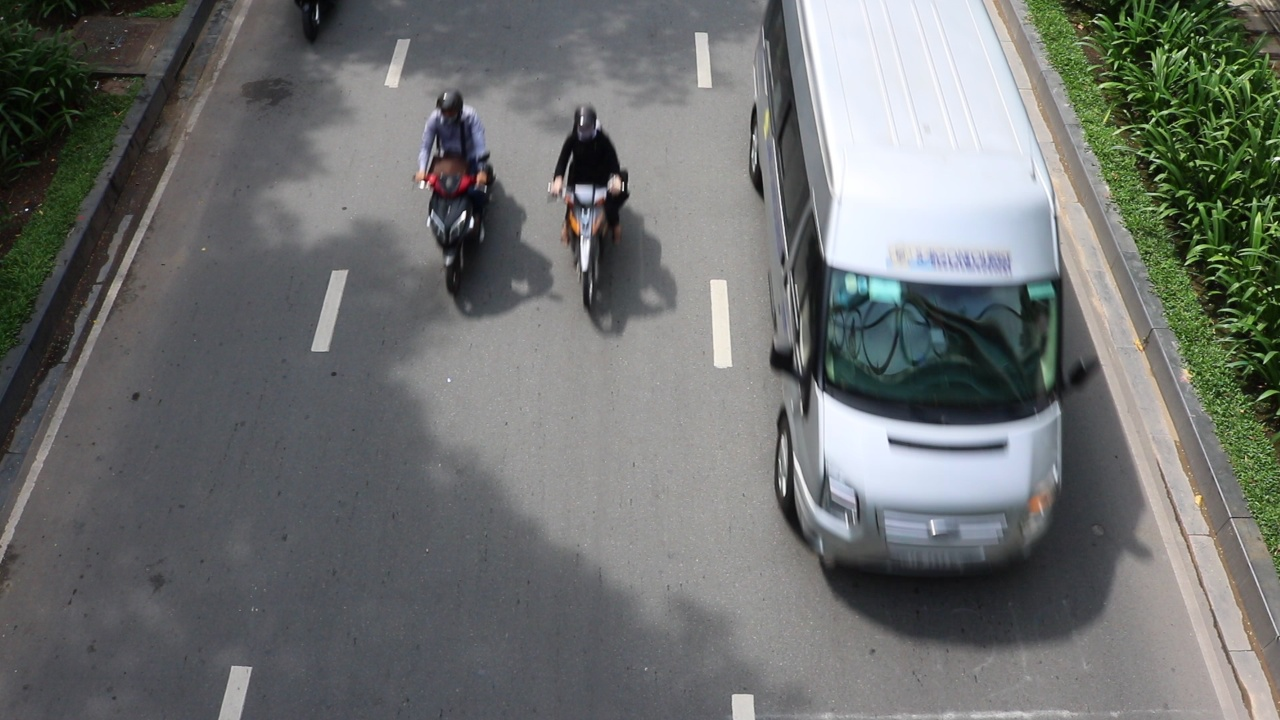bus: (745, 0, 1070, 575)
motorcycle: (414, 156, 493, 298), (546, 182, 625, 311)
